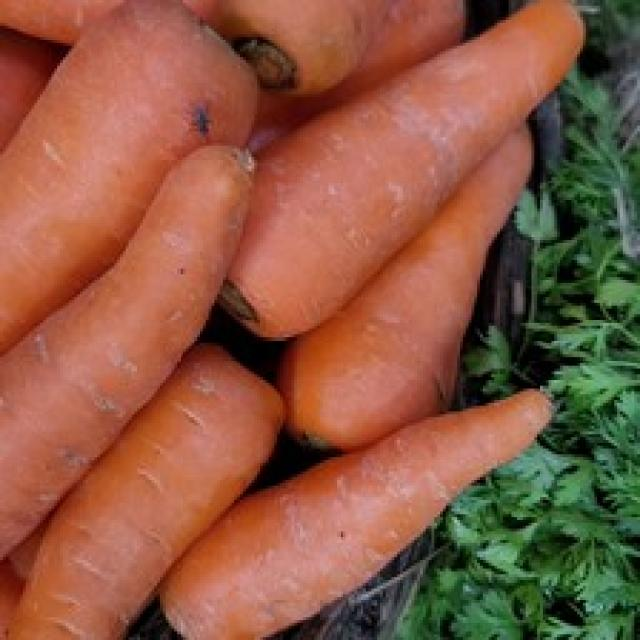Fresh_Carrot: (216, 6, 581, 353), (0, 144, 258, 533), (156, 395, 547, 640)
